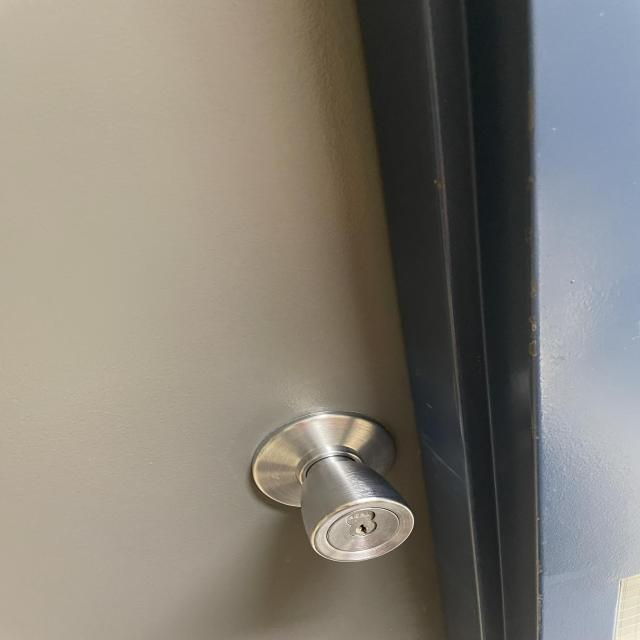door-knob: (253, 411, 413, 561)
